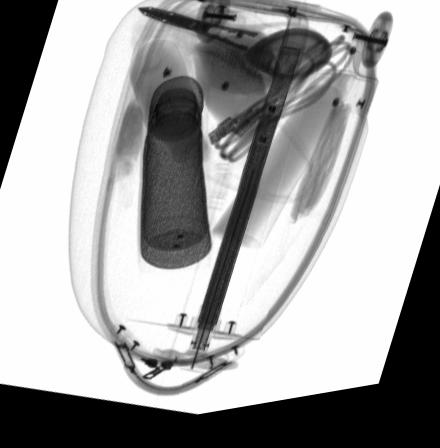Scissors: (139, 10, 323, 91)
